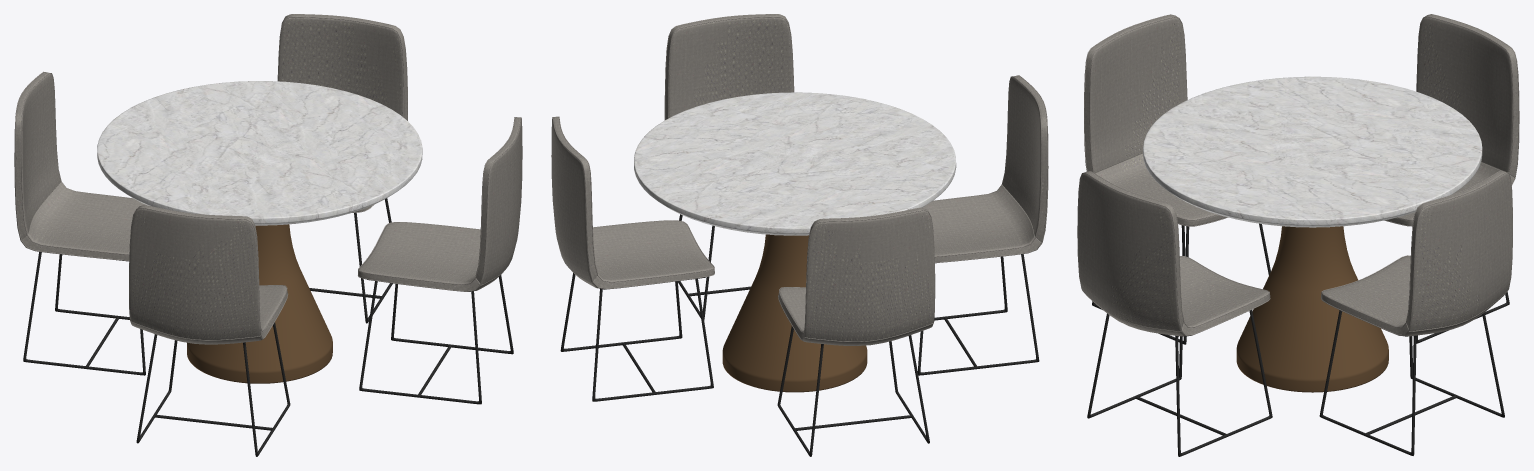
File: Table.fbx
3 renders of one model, left to right at view 1: azimuth 30°, elevation 25°; view 2: azimuth 150°, elevation 25°; view 3: azimuth 270°, elevation 25°, orthographic. The views are drawn at different scales.
Parts seen in each view (by area): view 1: Table, Plane.002, Plane.004, Plane.001, Plane.003; view 2: Table, Plane.001, Plane.003, Plane.002, Plane.004; view 3: Table, Plane.004, Plane.003, Plane.002, Plane.001.
Part boxes in pixels (bbox=[...]): Table: bbox=[97, 81, 422, 383]; Plane.002: bbox=[129, 205, 290, 456]; Plane.004: bbox=[358, 117, 522, 404]; Plane.001: bbox=[14, 71, 146, 375]; Plane.003: bbox=[277, 14, 407, 323]; Table: bbox=[634, 92, 956, 392]; Plane.001: bbox=[777, 207, 935, 456]; Plane.003: bbox=[551, 116, 714, 401]; Plane.002: bbox=[917, 75, 1048, 375]; Plane.004: bbox=[664, 14, 794, 319]; Table: bbox=[1143, 76, 1482, 392]; Plane.004: bbox=[1077, 171, 1272, 456]; Plane.003: bbox=[1319, 170, 1512, 455]; Plane.002: bbox=[1084, 14, 1270, 344]; Plane.001: bbox=[1384, 14, 1519, 343].
Size of the model in its own units: 152 by 90.14 by 143.
